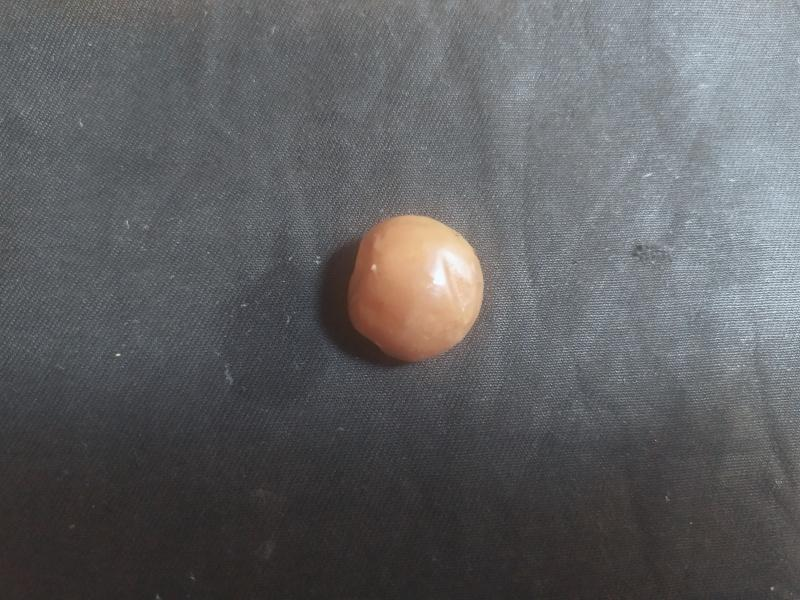Grape Rotten: (345, 212, 486, 365)
